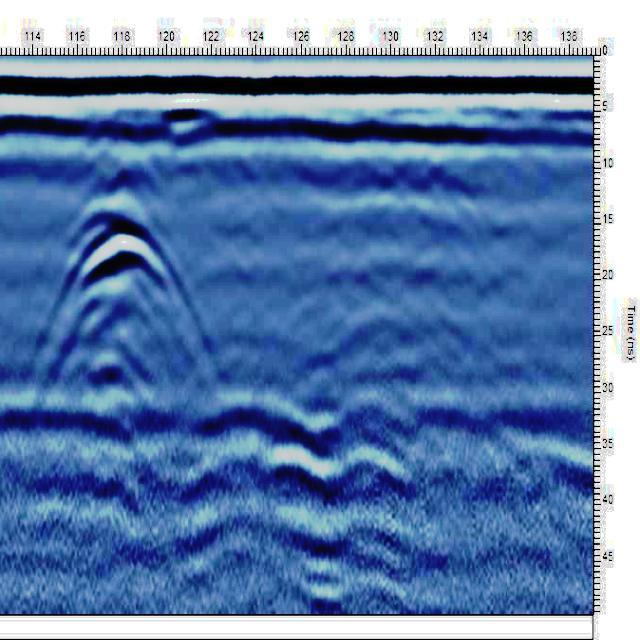hyperbola: (15, 173, 227, 404)
